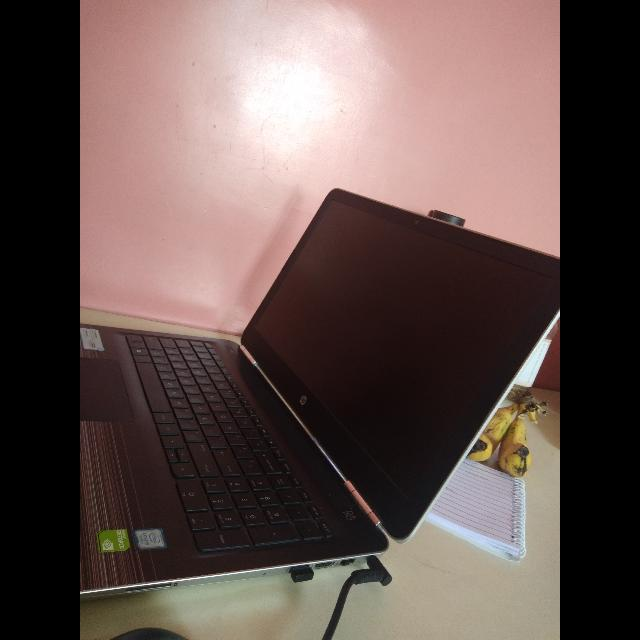Laptop: (80, 175, 560, 617)
